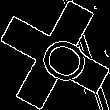O_NW: (22, 24, 88, 86)
